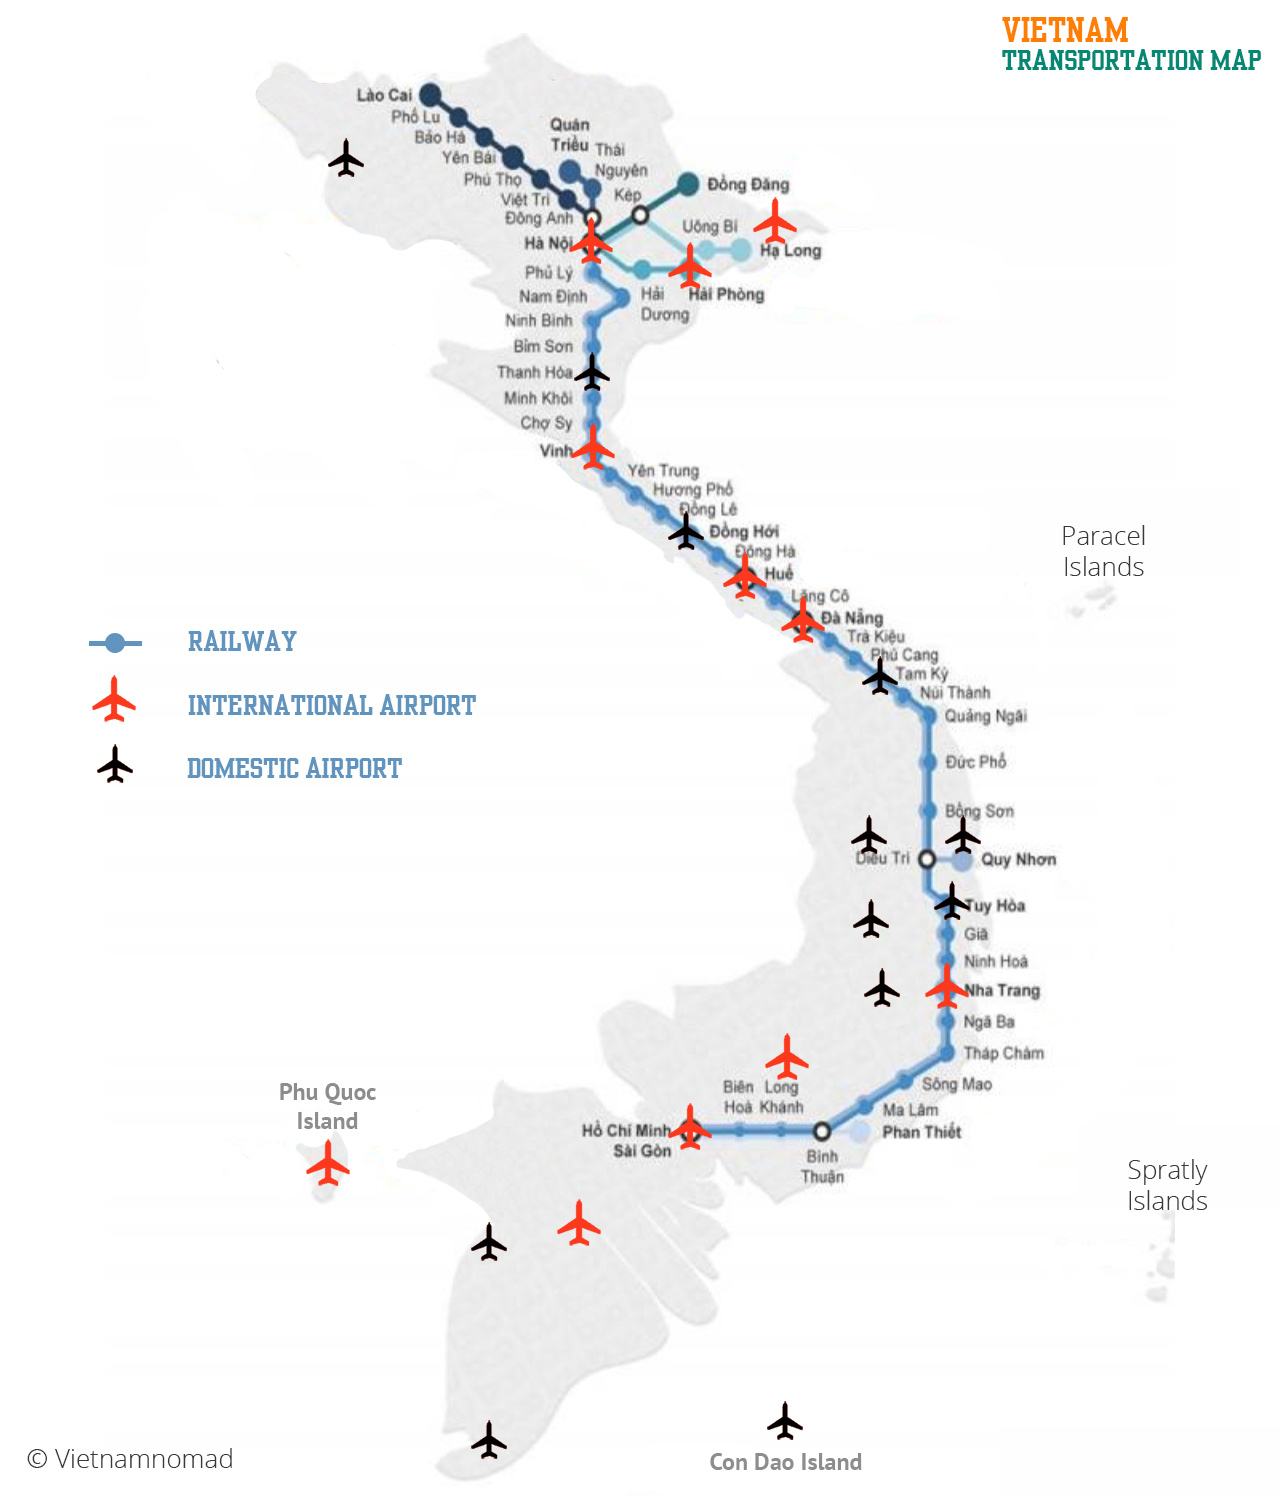Island: (1106, 1155, 1236, 1320), (1060, 492, 1162, 620)
